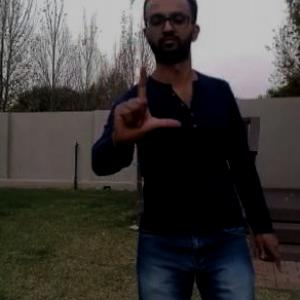land_hand: (109, 61, 184, 152)
